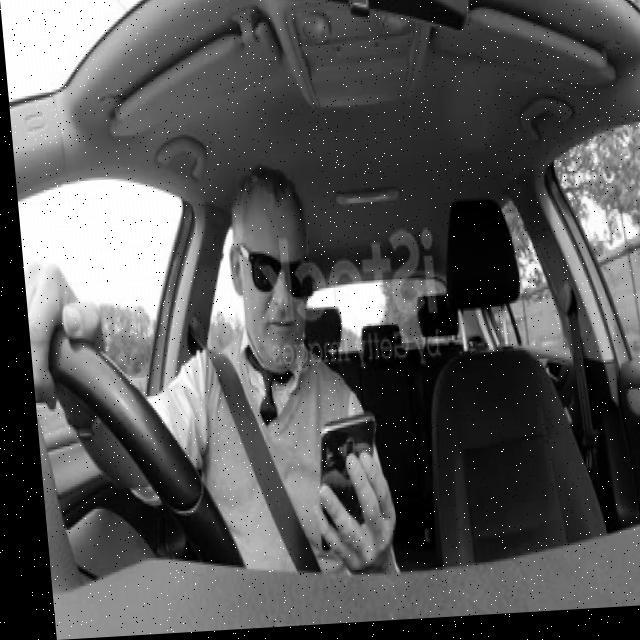PhoneCall: (301, 418, 380, 556)
